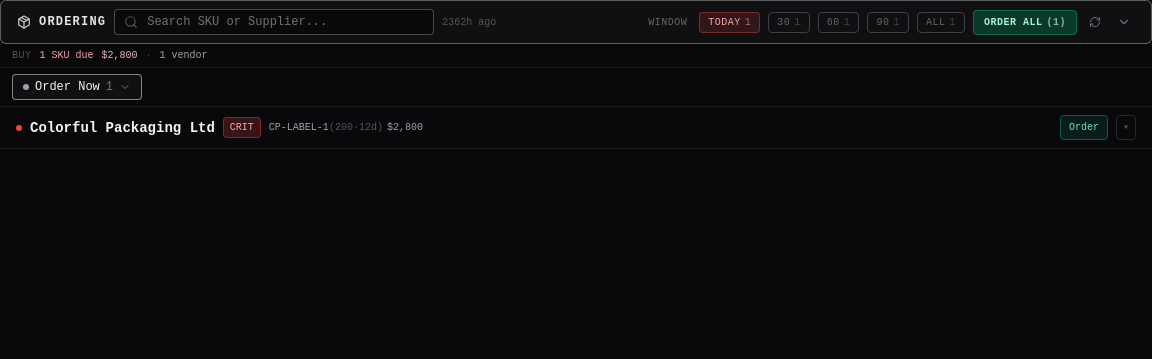
Scenario: PurchasingPanel - vendor policy badges › renders cover/lead/MOQ-warn/Review badges and review reasons block
Step 1. Click the button "▾" → (1126, 128), box [1116, 115, 1136, 140]
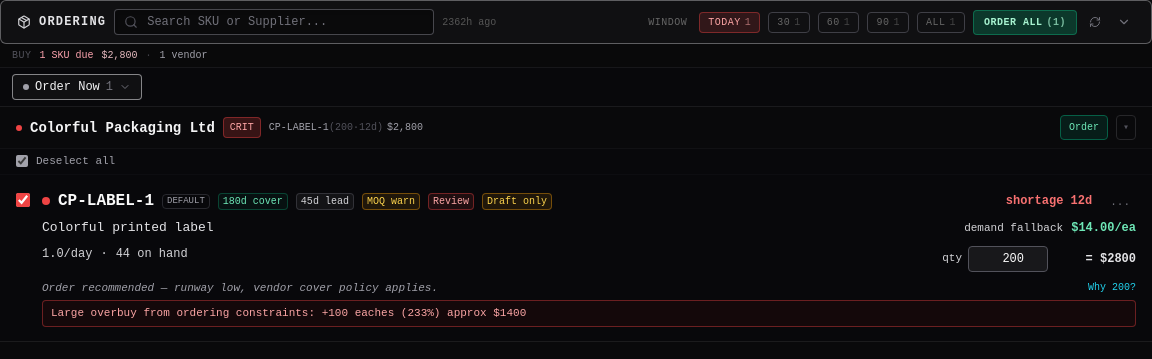
Expected: the text "180d cover" is shown, [218, 193, 288, 210]
Expected: the text "45d lead" is shown, [296, 193, 354, 210]
Expected: the text "MOQ warn" is shown, [362, 193, 420, 210]
